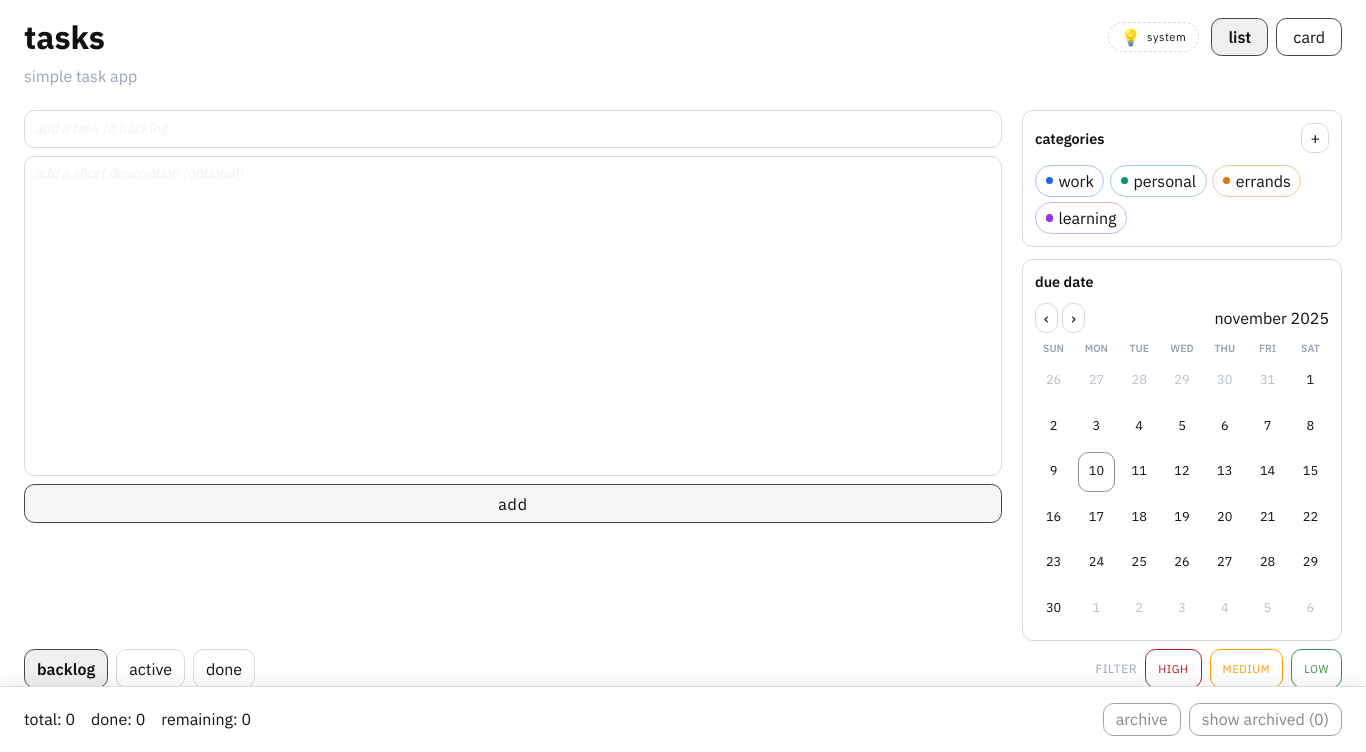
Scenario: App › allows setting and updating todo priority
Type "write docs" into the field with placeholder "add a task to backlog" at (513, 129), box [24, 110, 1002, 148]
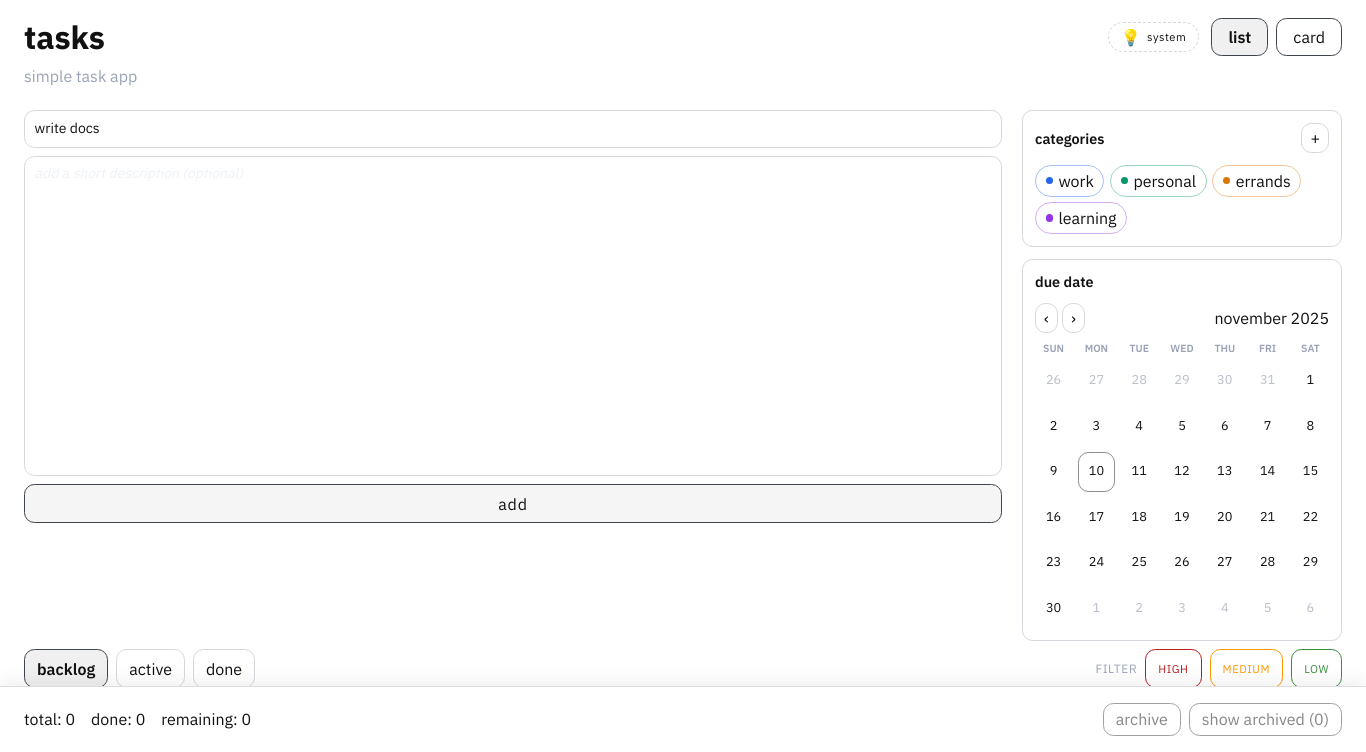
Click the button named "select" at (1054, 380), box [1035, 360, 1072, 400]
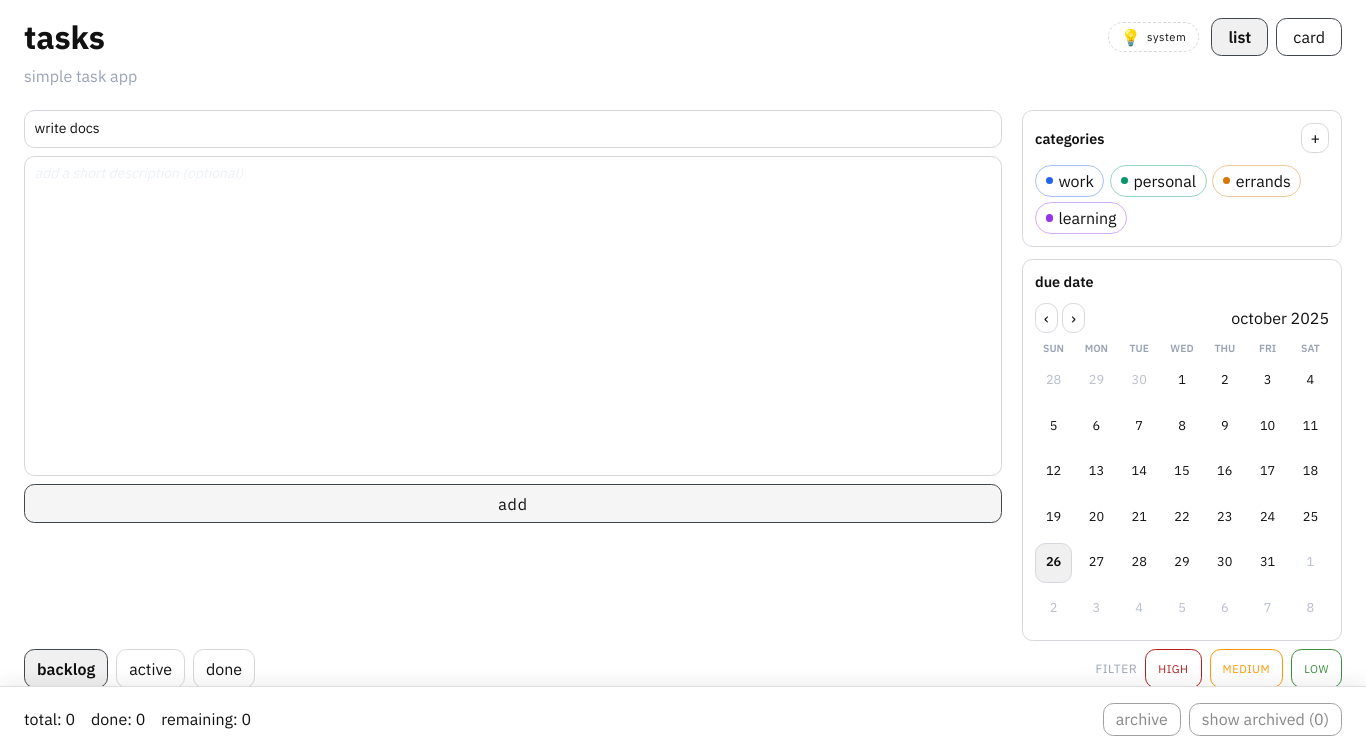
Click the button "add" at (513, 504), box [24, 484, 1002, 523]
(page scrolled)
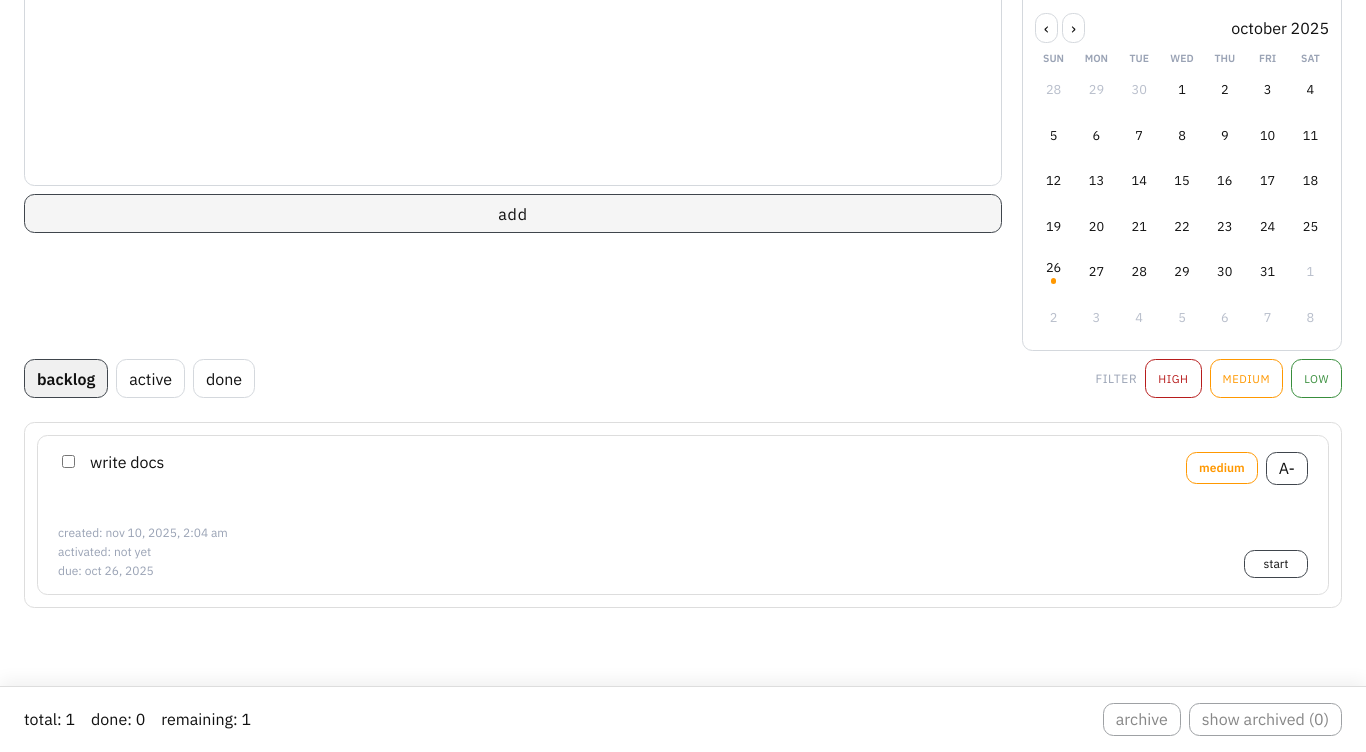
Click the button with aria-label "priority medium" at (1222, 468), box [1186, 452, 1258, 484]
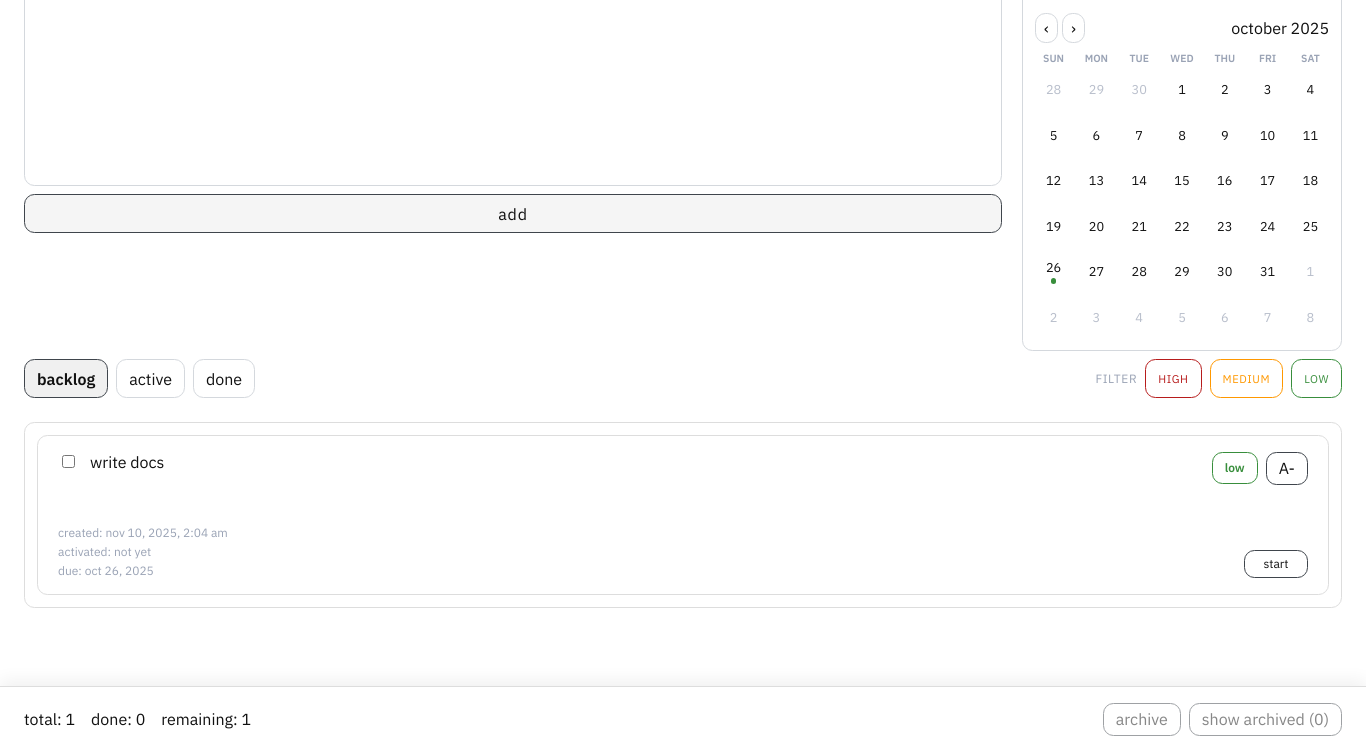
Check: the button with aria-label "priority low" is shown
Click the button with aria-label "priority low" at (1235, 468), box [1212, 452, 1258, 484]
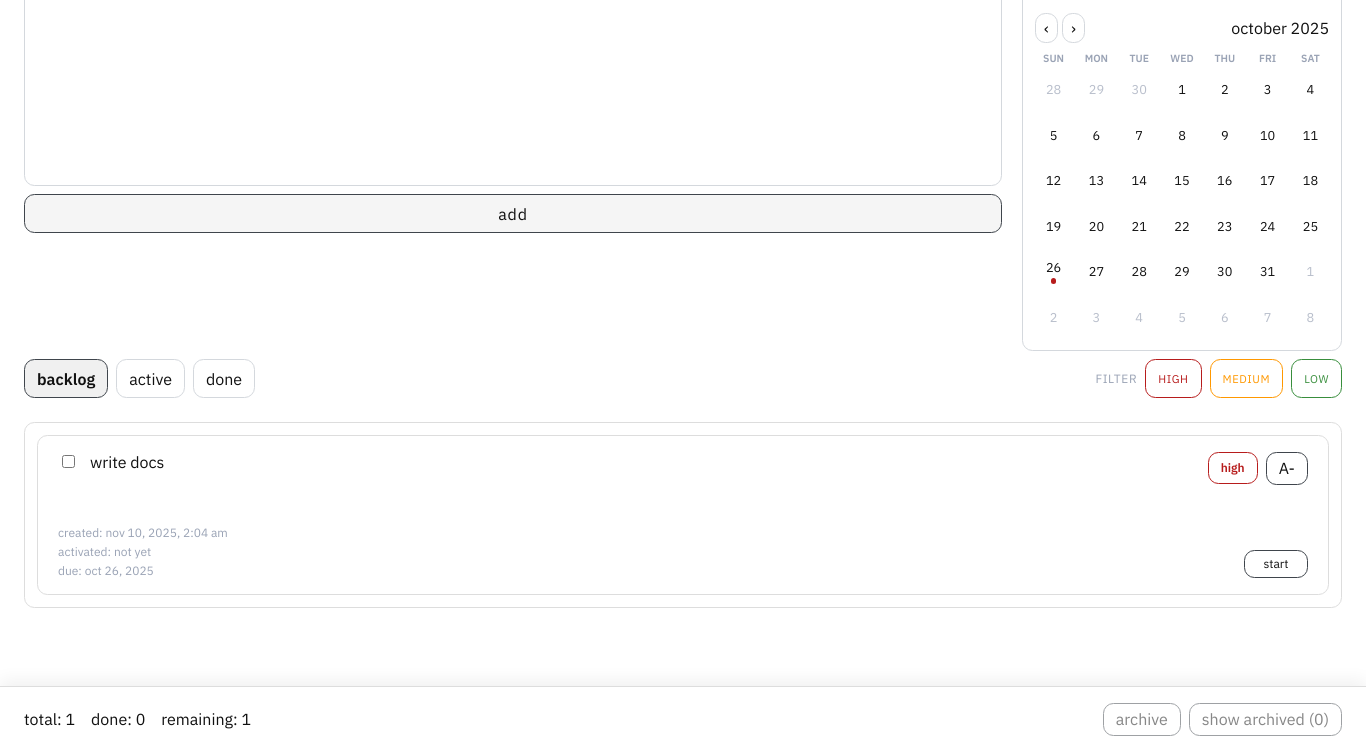
Check: the button with aria-label "priority high" is shown, box [1208, 452, 1258, 484]
